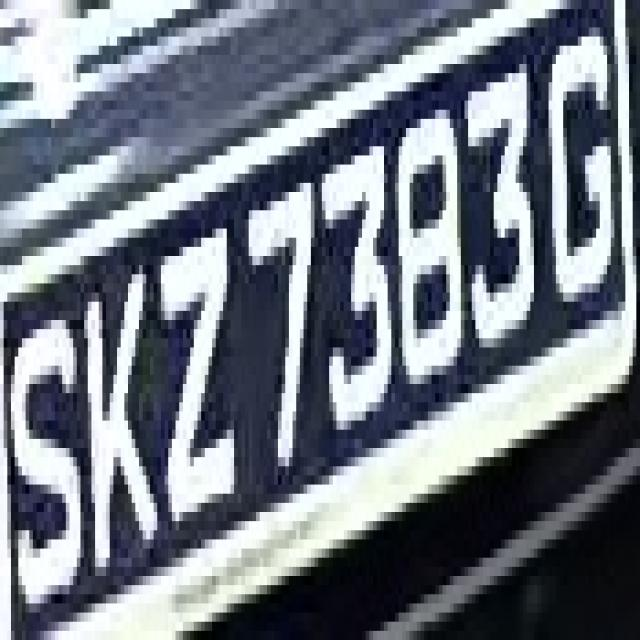3: (304, 110, 398, 466), (454, 55, 542, 393)
7: (238, 183, 318, 503)
8: (395, 119, 464, 430)
G: (542, 9, 626, 329)
K: (80, 238, 158, 576)
S: (14, 293, 76, 622)
Z: (154, 210, 252, 530)
